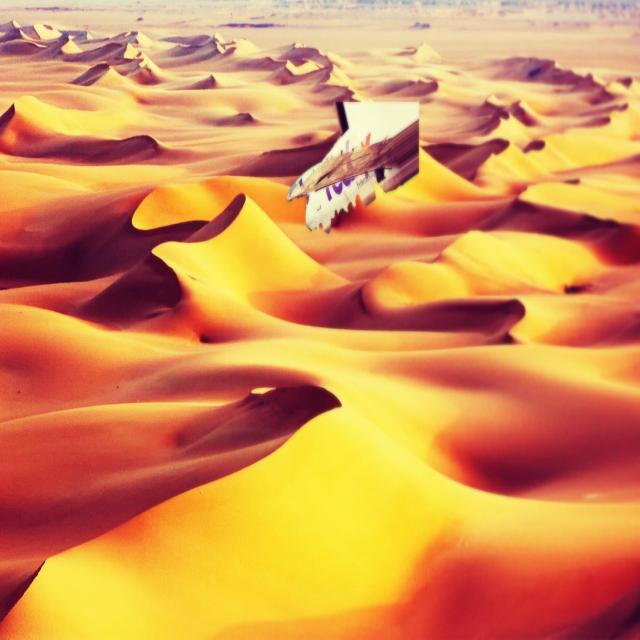airplane: (286, 98, 420, 233)
